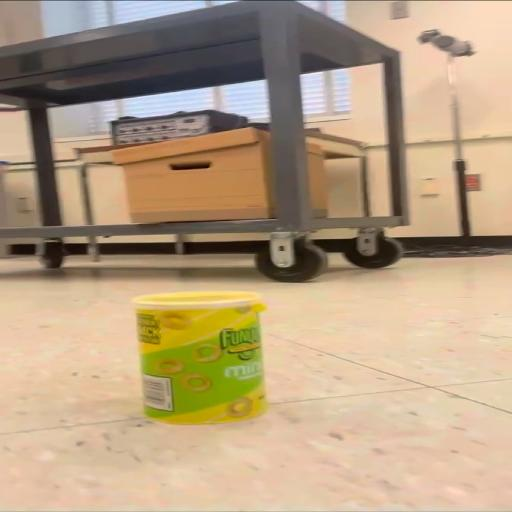pringle can: (133, 293, 268, 424)
